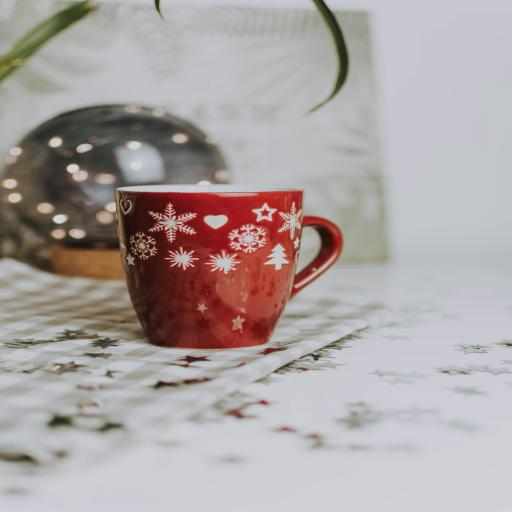cup: (115, 184, 344, 350)
